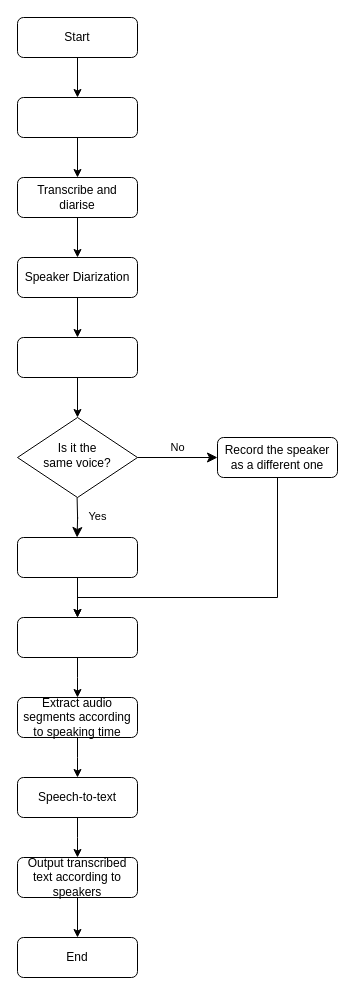
This 355x995 diagram has some shape labels left out. The centre of each missing label's shape, as x and y in pixels:
"Extract speaker segments with timestamps" belongs at (x=77, y=357).
"Extract speakers and speaking time" belongs at (x=77, y=637).
"Record the speaker as the same" belongs at (x=77, y=557).
"Upload audio file" belongs at (x=77, y=117).
